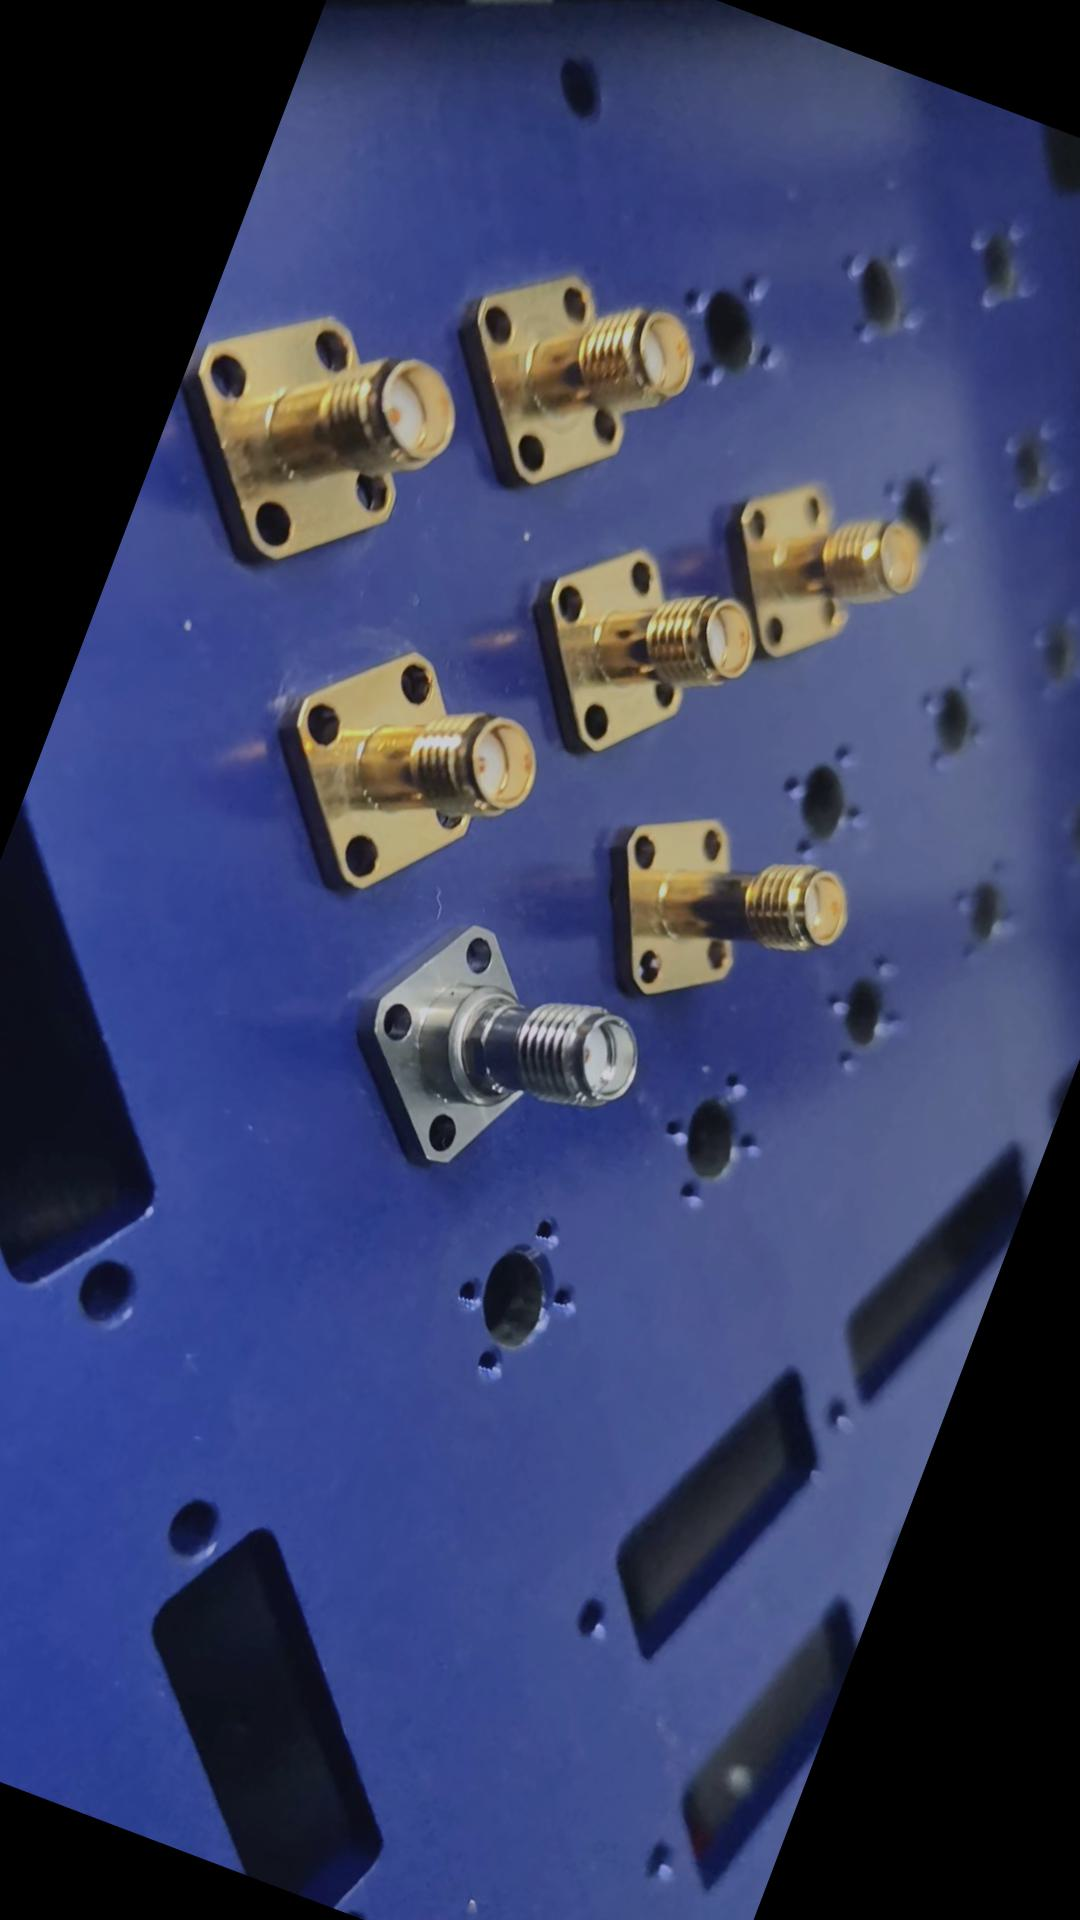SMA: (138, 269, 495, 616), (324, 880, 676, 1218), (233, 603, 564, 934), (417, 223, 715, 531), (579, 775, 877, 1058), (498, 498, 764, 786), (690, 451, 948, 709)
